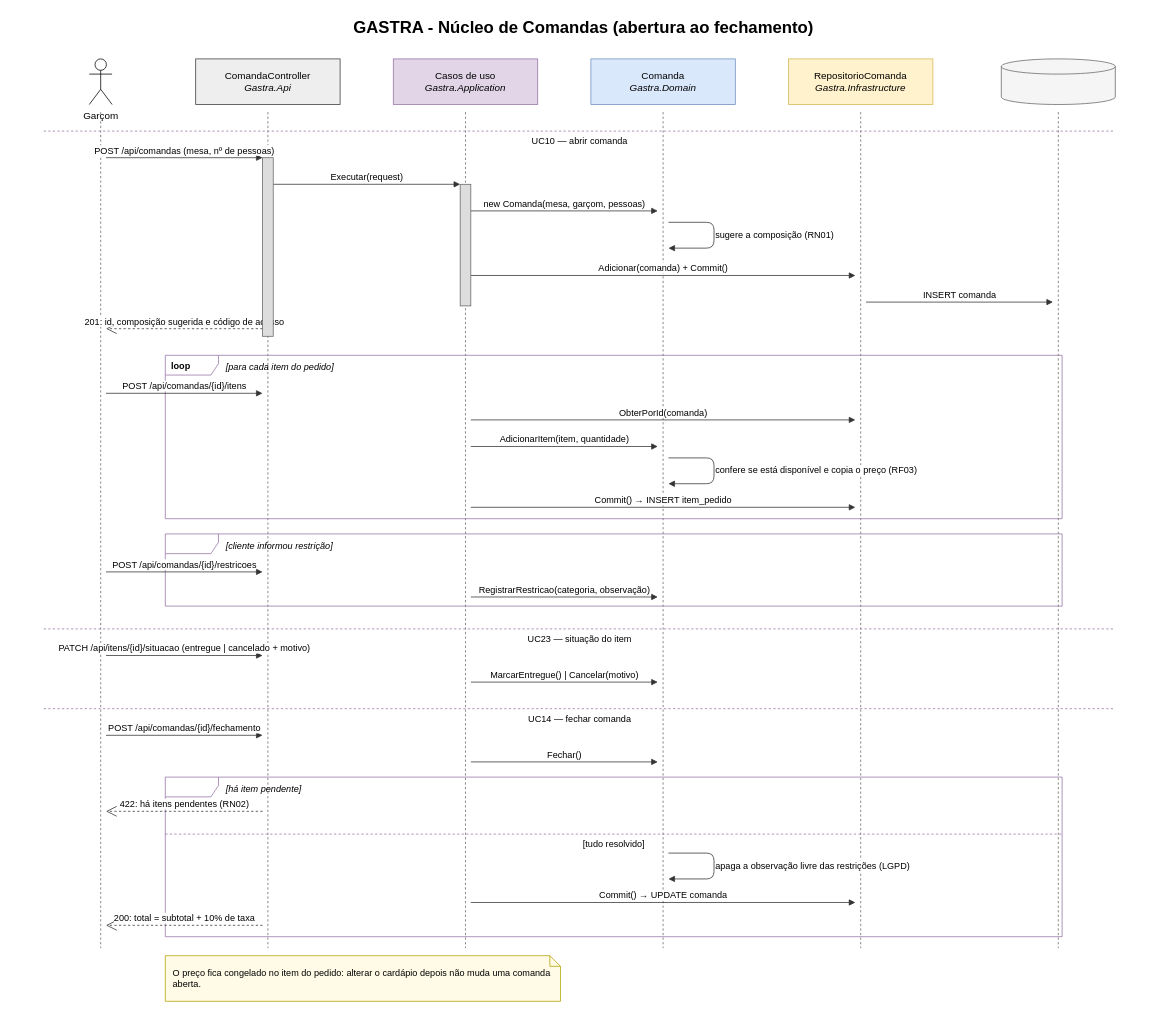
This 1166x1015 diagram has some shape labels left out. The shapes that lost their labels are listed below. From the top down, each one's box as (x1, y1, x2, y2) in pixels, then its label:
(1001, 58, 1115, 104): MySQL
(165, 533, 1062, 606): opt
(165, 776, 1062, 937): alt
